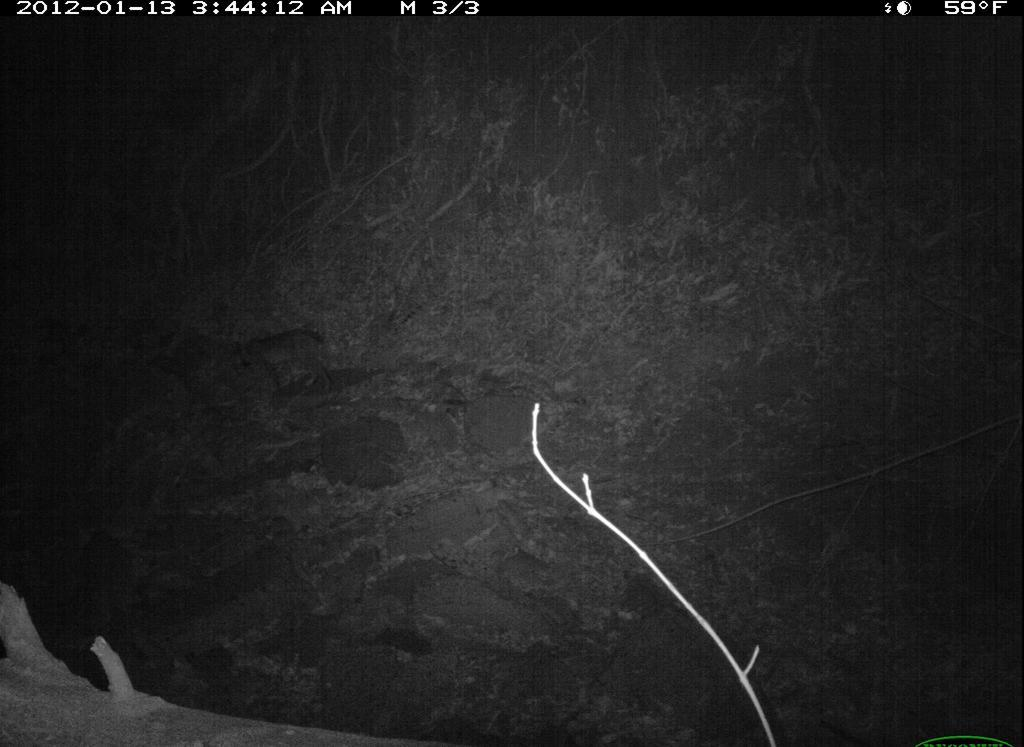bobcat: (218, 324, 351, 402)
